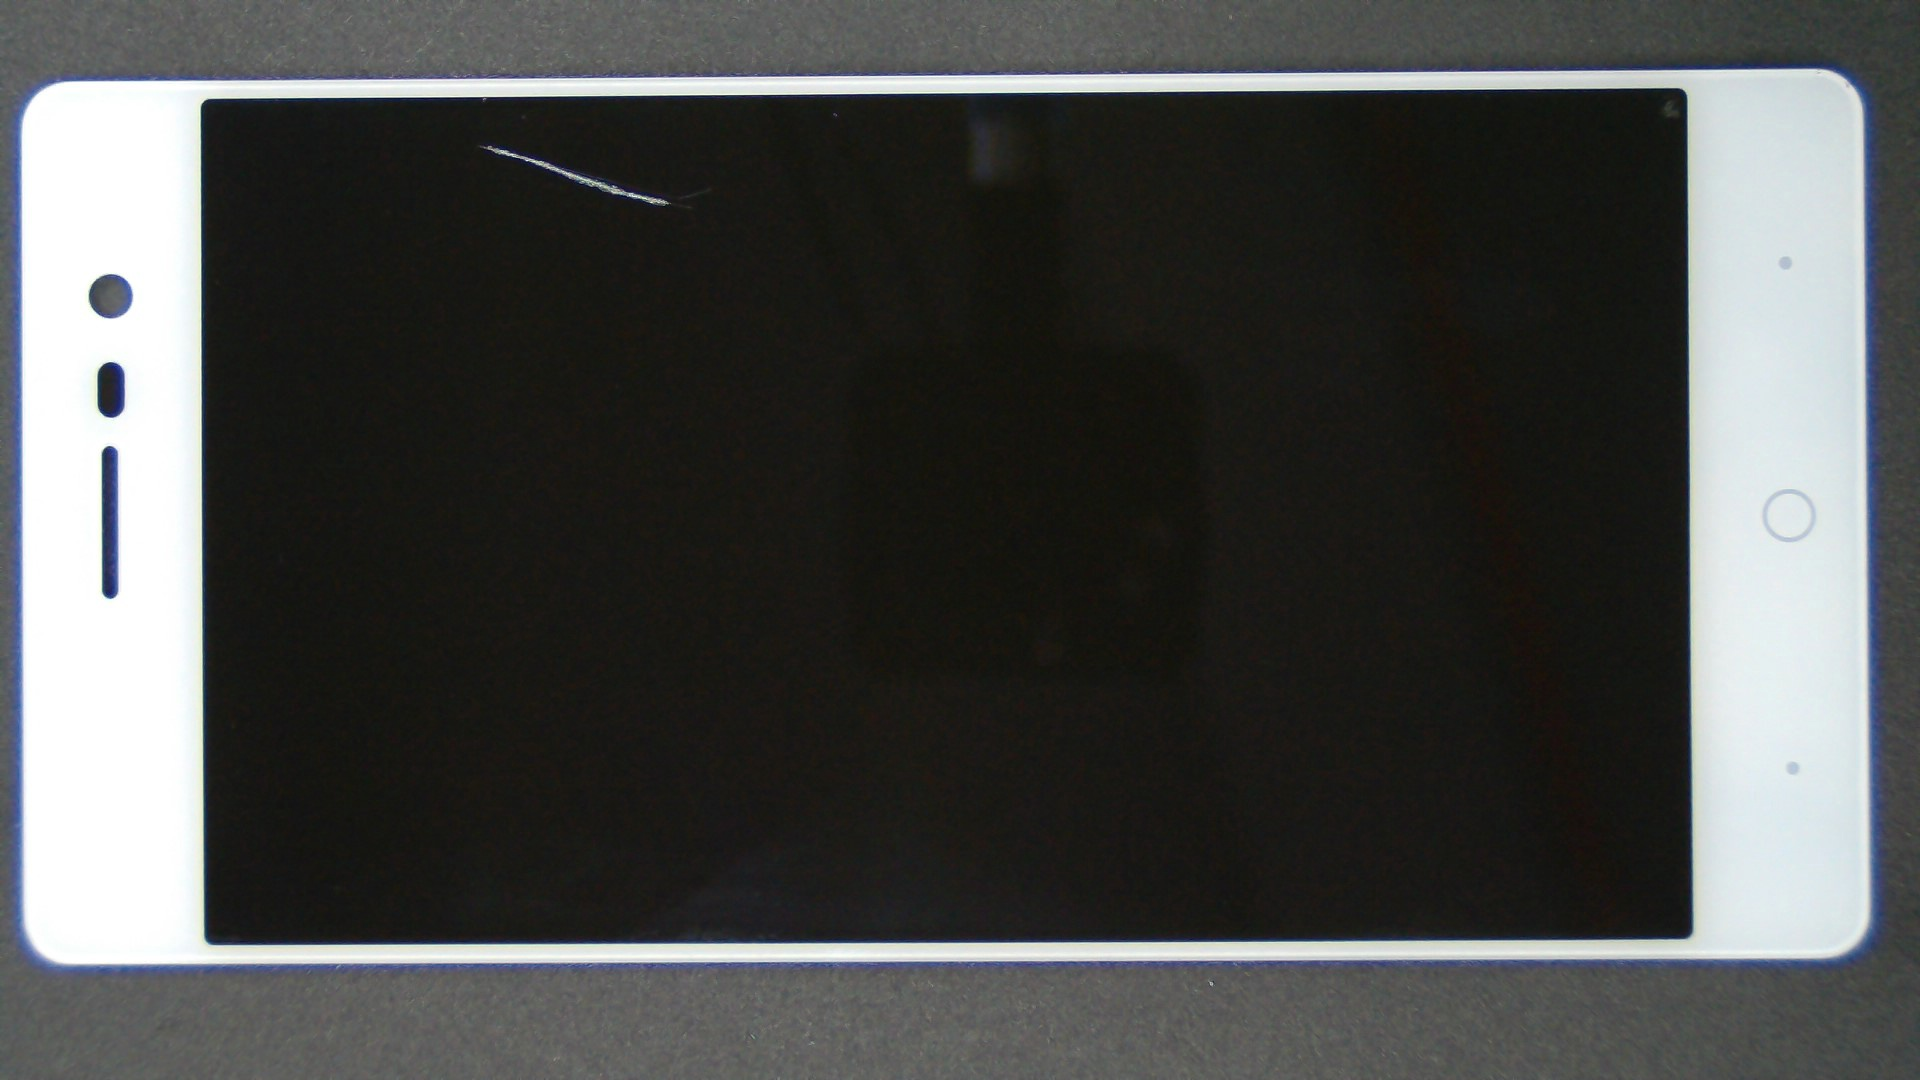oil: (240, 71, 719, 218)
